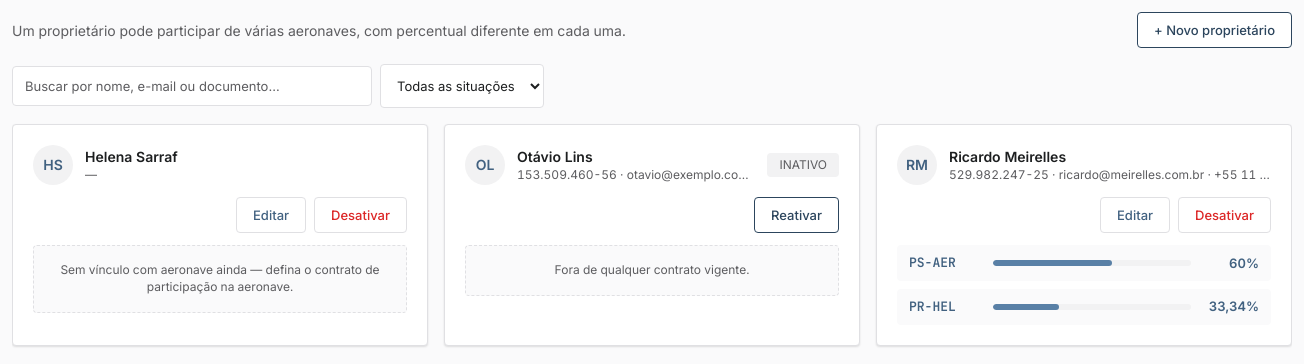
Test: PaginaDeProprietarios › a busca encontra por documento, não só por nome
Expected: the text "Ricardo Meirelles" is shown, [949,148,1066,165]
Type "15350946056" into the field named "Buscar proprietário" at (192, 86), box [12,66,372,106]
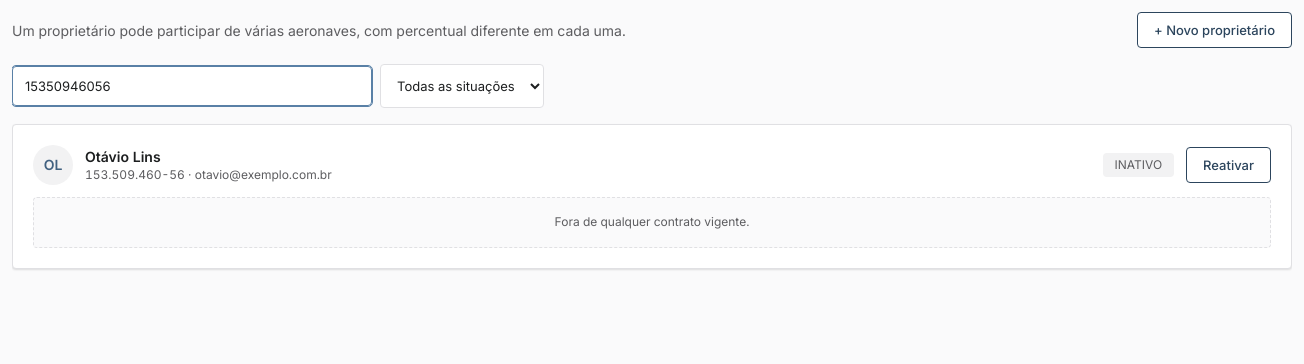
Expected: the text "Otávio Lins" is shown, [85,148,161,165]
Expected: the text "Helena Sarraf" is gone
